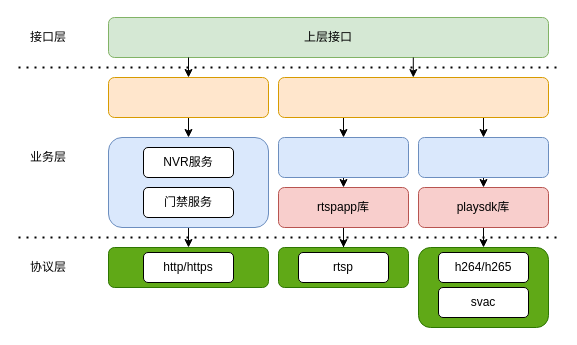
Some shapes in this 577 by 345 pixel diagram are drawn without their labels. Here are the shapes that lost their labels. From the top down, the centre of each, then its label:
the point at 188,97: 通信模块
the point at 413,97: 音视频模块
the point at 343,157: 拉流
the point at 483,157: 解码，播放控制
